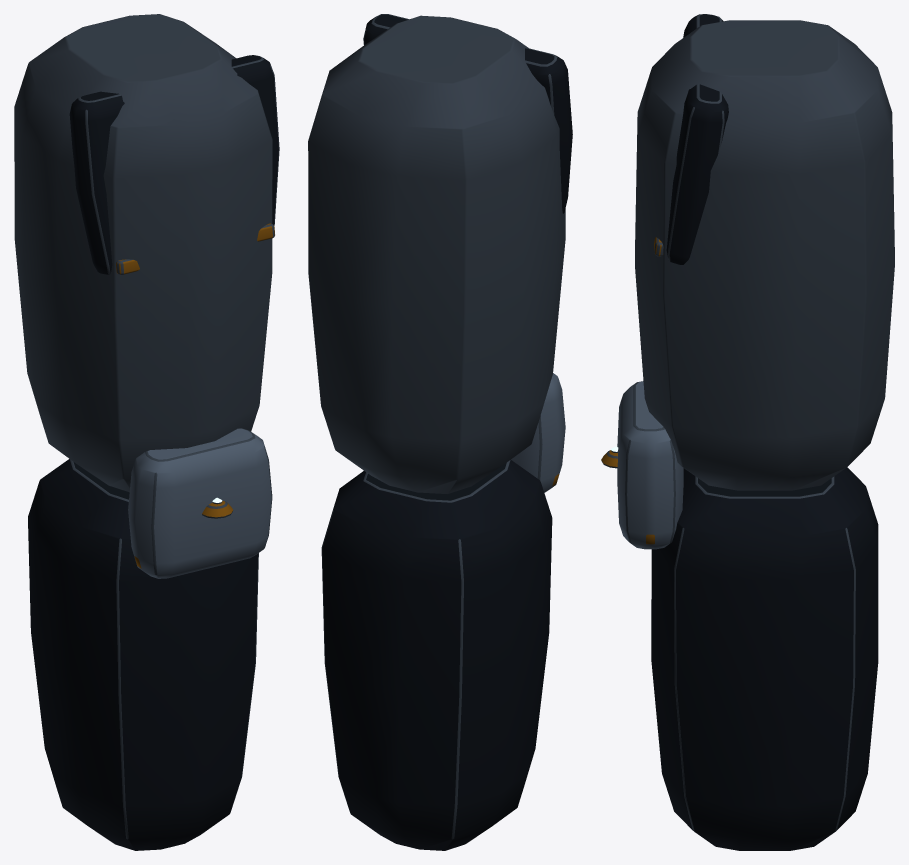
The model's file is Runica_CalcaL.fbx.
The picture shows the model from 3 angles, left to right: view 1: azimuth 30°, elevation 25°; view 2: azimuth 150°, elevation 25°; view 3: azimuth 270°, elevation 25°; orthographic projection.
Parts seen in each view (by area): view 1: Piece; view 2: Piece; view 3: Piece.
Boxes of the visible parts, x1,y1,x2,y2 form: Piece: (14, 14, 279, 850); Piece: (308, 14, 572, 850); Piece: (601, 14, 894, 850).
Bounding box in the file's own units: 0.2095 × 0.7561 × 0.2567.
